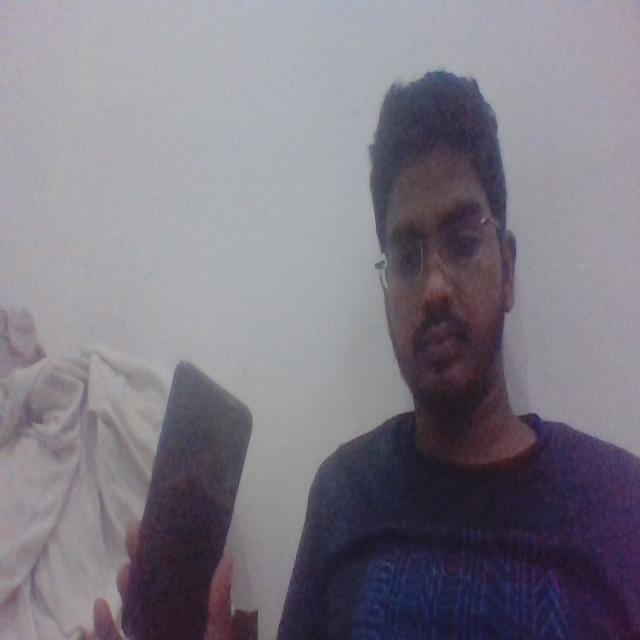Phone: (120, 357, 257, 640)
